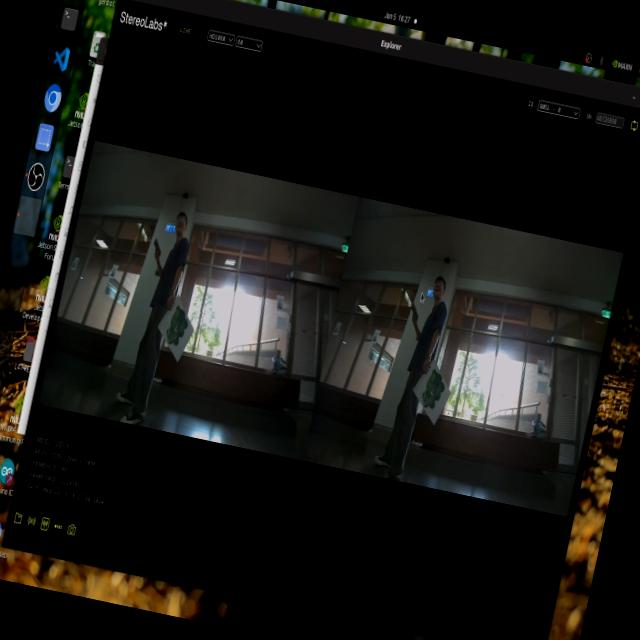green: (416, 366, 451, 416), (170, 308, 207, 349)
